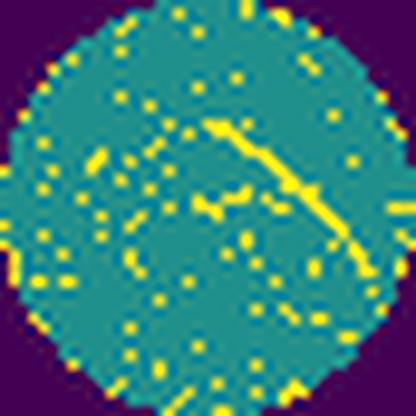Scratch: (199, 112, 380, 286)
